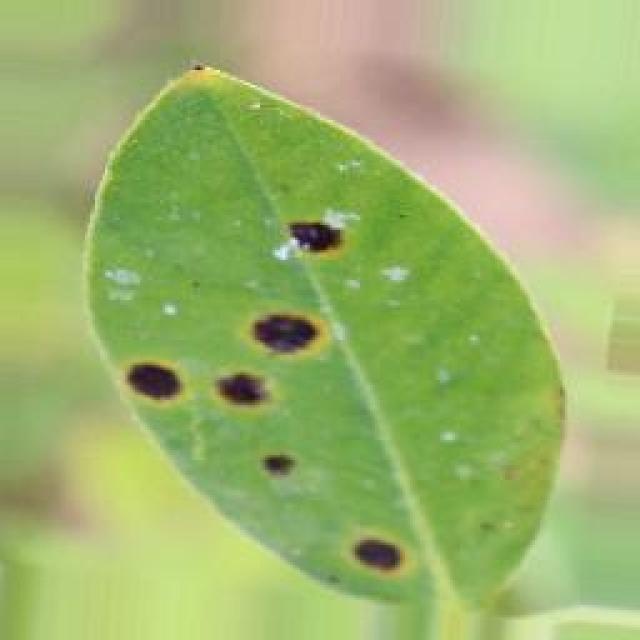Sigatoka: (207, 290, 317, 419), (320, 468, 427, 589), (250, 166, 341, 298), (110, 328, 190, 436), (258, 423, 314, 494)
